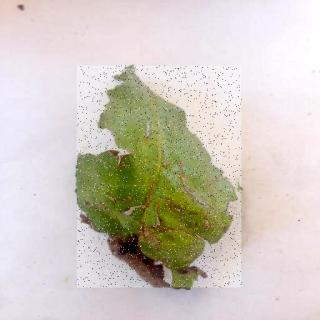Brown Blight: (78, 67, 243, 289)
